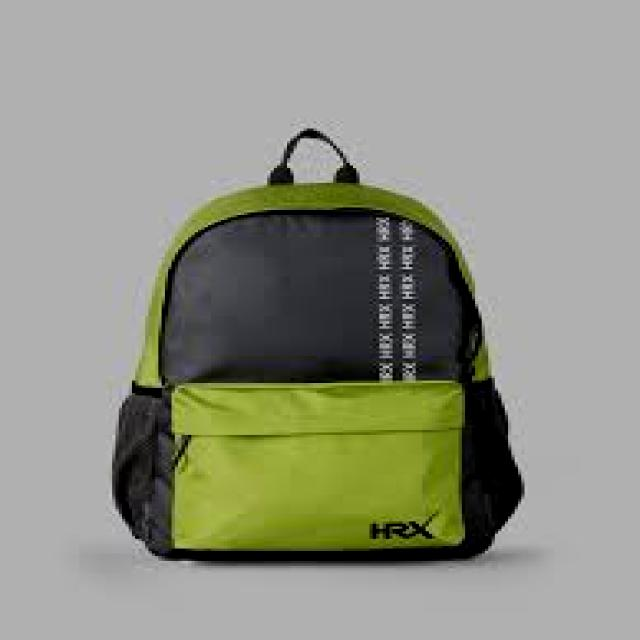backpack: (110, 127, 526, 562)
